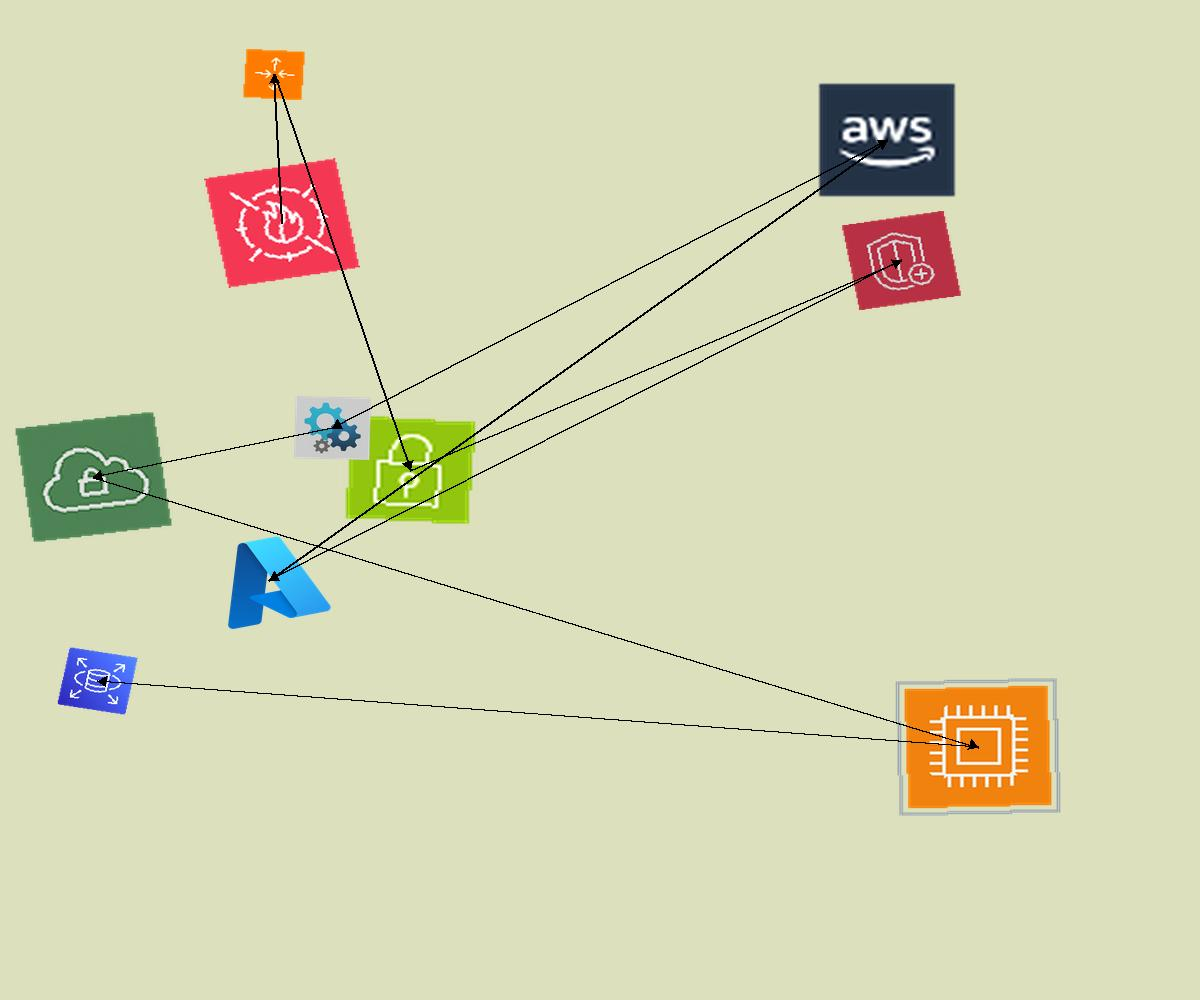AWS-Category_Compute: (894, 677, 1062, 817)
AWS-Cloud-logo: (816, 81, 958, 199)
AWS-Private_vpc: (14, 411, 173, 543)
AWS-Public-subnet: (343, 414, 478, 526)
AWS-RDS: (57, 647, 138, 715)
AWS-Scaling-group: (242, 48, 306, 101)
AWS-Shield: (841, 210, 962, 311)
AWS-WAF: (204, 158, 360, 288)
Azure_api: (294, 396, 371, 460)
Azure_services: (201, 523, 338, 637)
